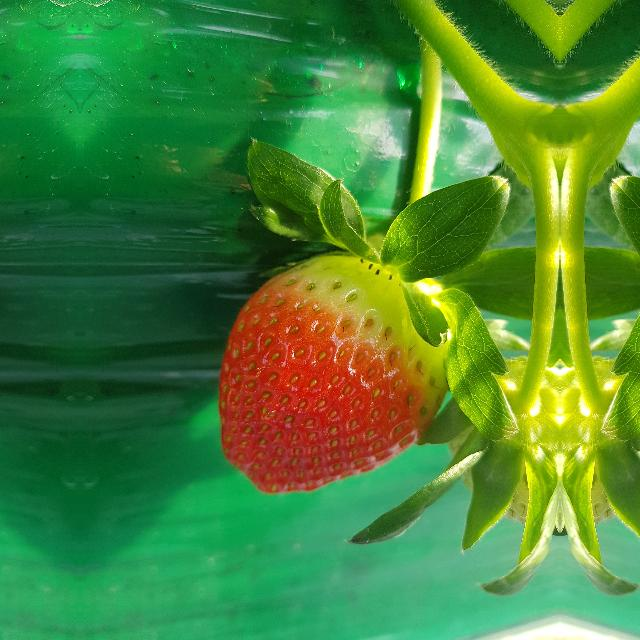Health_75: (217, 250, 449, 494)
